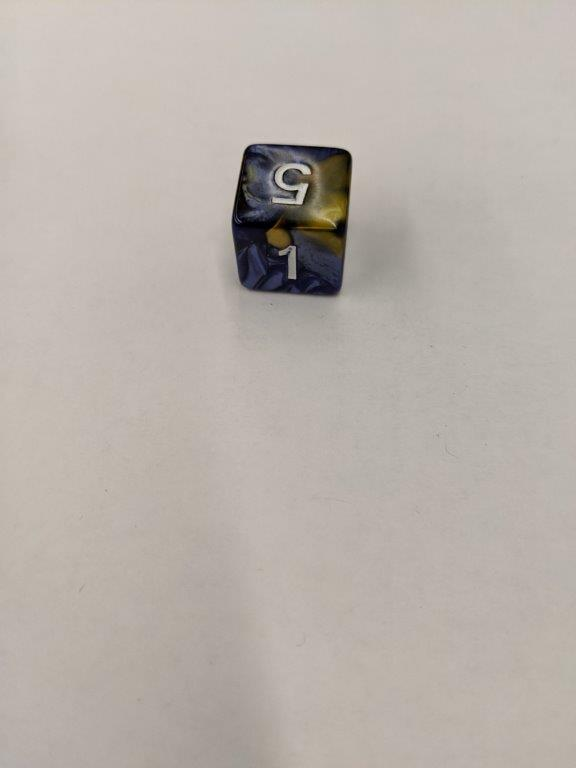d6-5: (229, 145, 355, 301)
